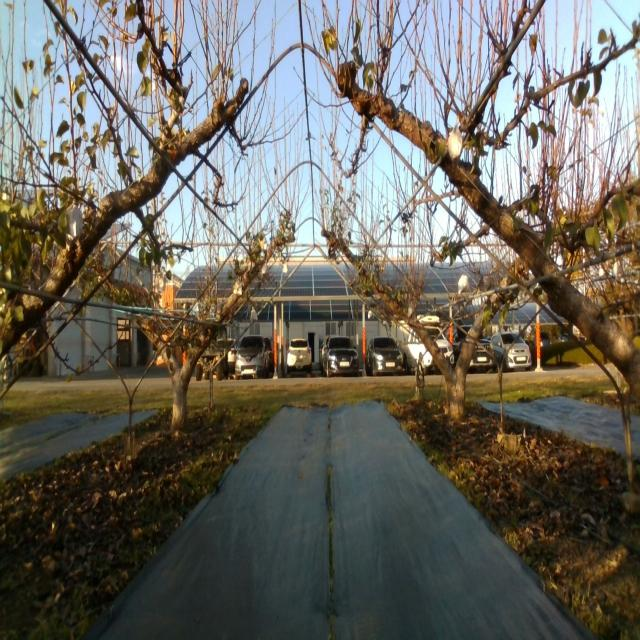pearbags: (66, 204, 83, 239), (447, 126, 463, 161), (458, 274, 470, 295), (155, 272, 166, 292)
